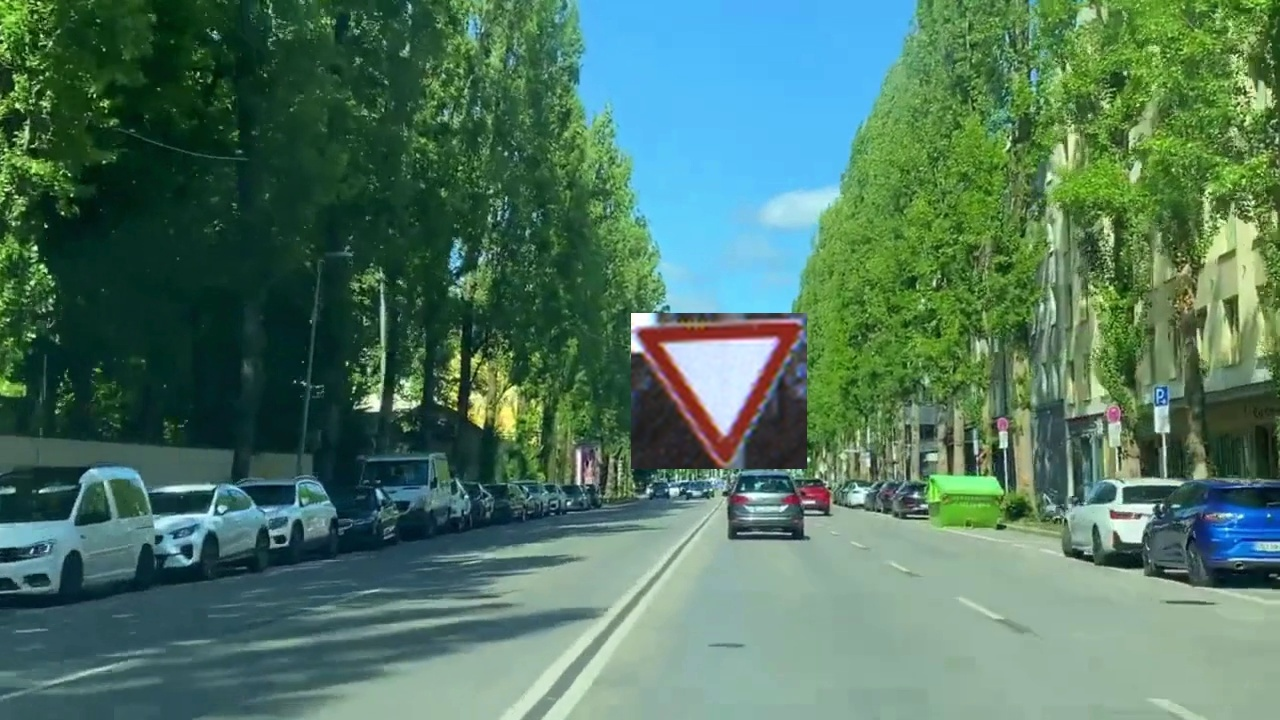Yield: (631, 313, 807, 469)
